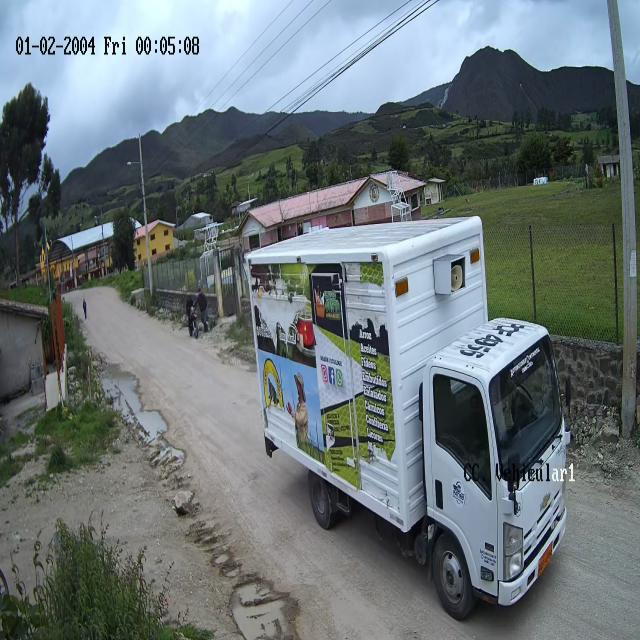TRUCK: (245, 217, 570, 620)
